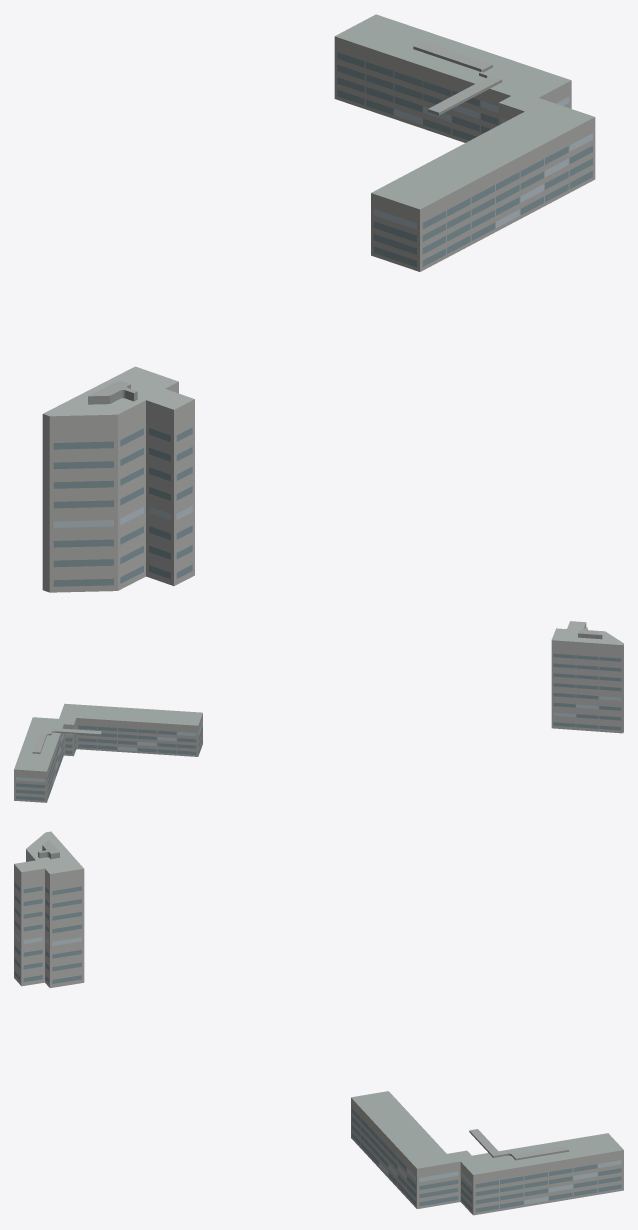
File: apt-a10024240.glb
3 renders of one model, top to bottom at view 1: azimuth 30°, elevation 25°; view 2: azimuth 150°, elevation 25°; view 3: azimuth 270°, elevation 25°, orthographic. The views are drawn at different scales.
Visible parts, largest first — view 1: apt-a10024240; view 2: apt-a10024240; view 3: apt-a10024240.
Part boxes in pixels (x1=…): apt-a10024240: x1=42, y1=14, x2=595, y2=592; apt-a10024240: x1=14, y1=621, x2=623, y2=802; apt-a10024240: x1=14, y1=831, x2=623, y2=1215.
Bounding box in the file's own units: 218 × 45 × 208.
